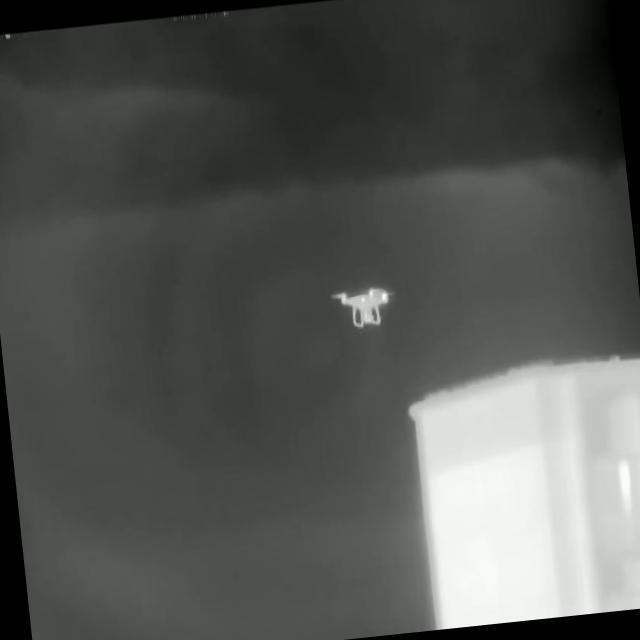DRONE: (325, 286, 396, 327)
